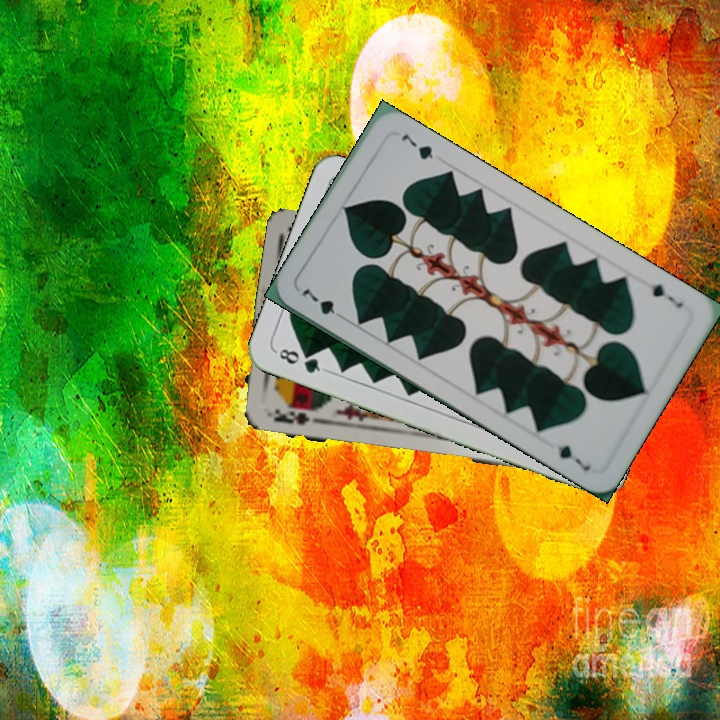G7: (297, 284, 349, 323), (647, 279, 686, 311)
G8: (272, 344, 329, 376)
SK: (269, 402, 321, 427)
